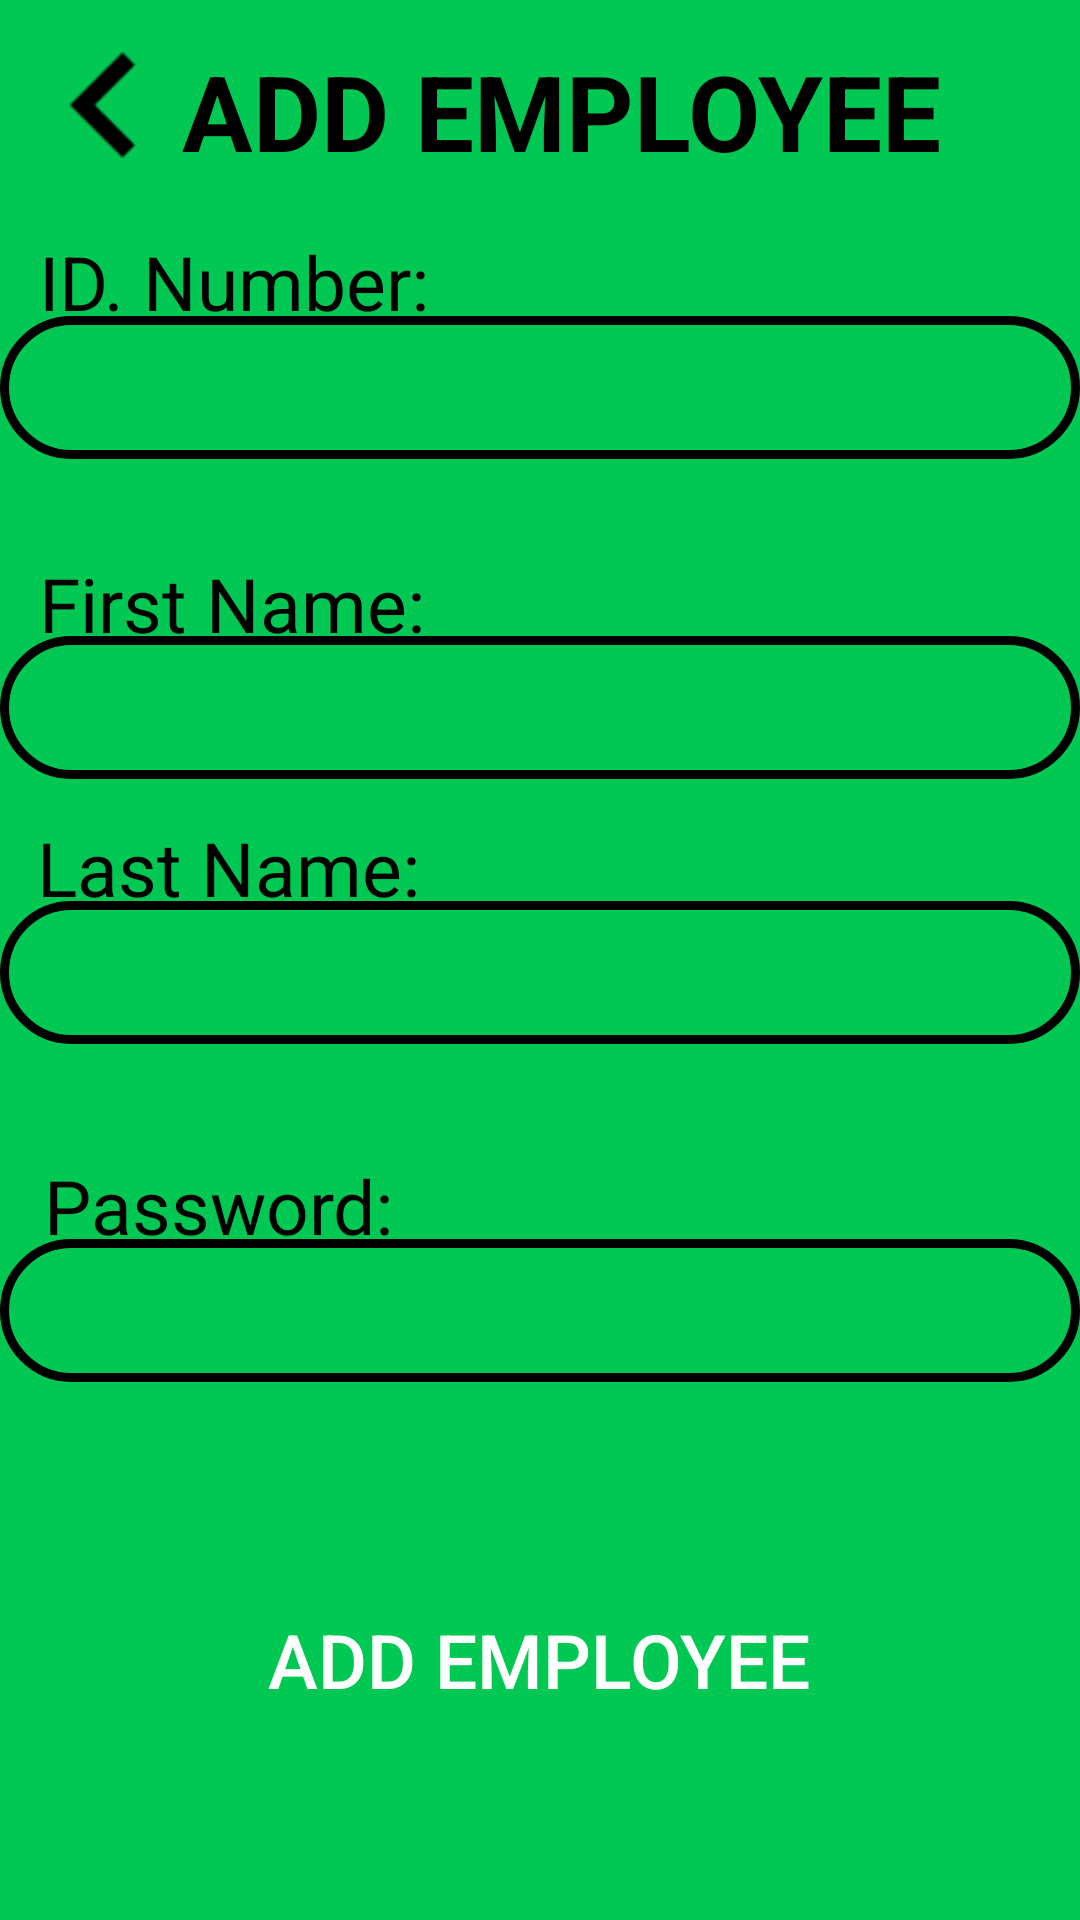

Icons on this 1080x1920 Android screen, each with its box as region(x1, y1, x2, y2):
next reversed: region(69, 52, 136, 158)
